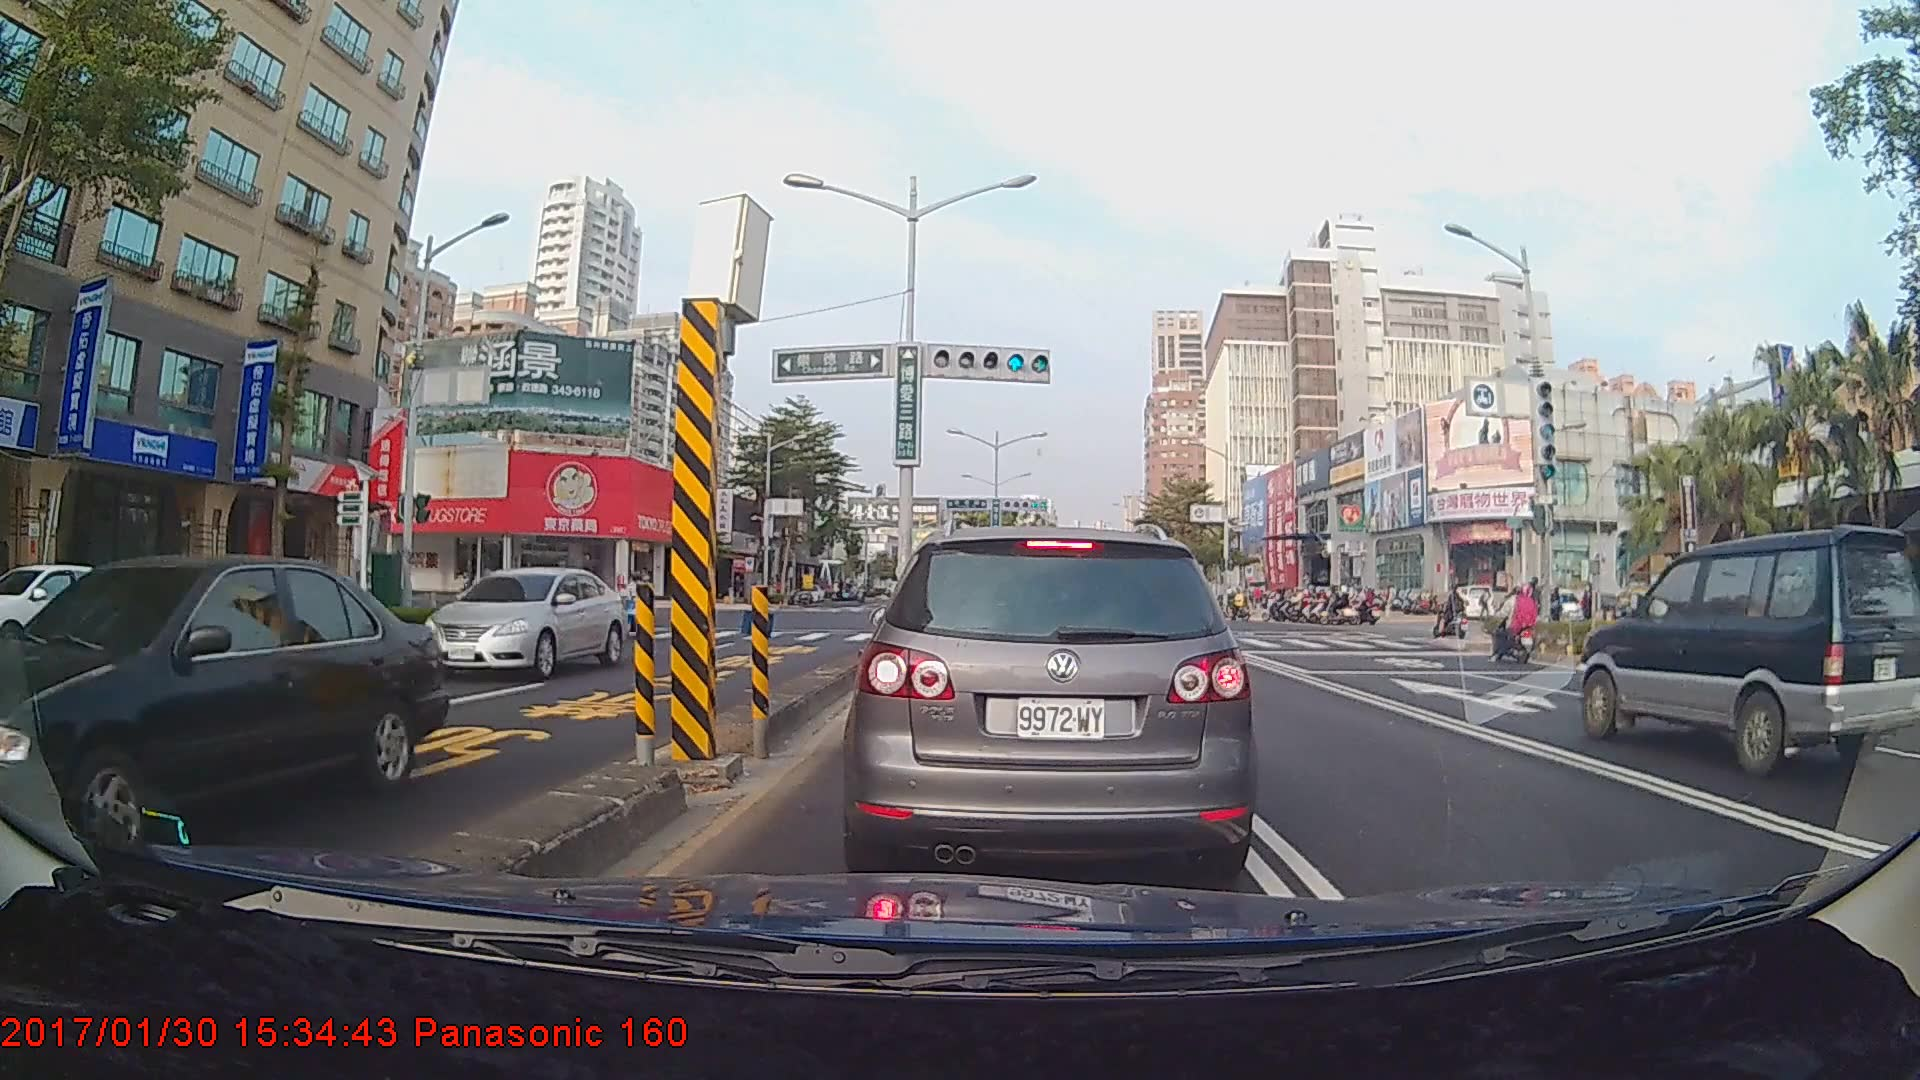rider: (1485, 582, 1548, 668), (1436, 582, 1473, 646)
vehicle: (0, 550, 446, 877), (853, 522, 1253, 871), (1579, 523, 1920, 778), (421, 566, 628, 681), (0, 561, 157, 671)
